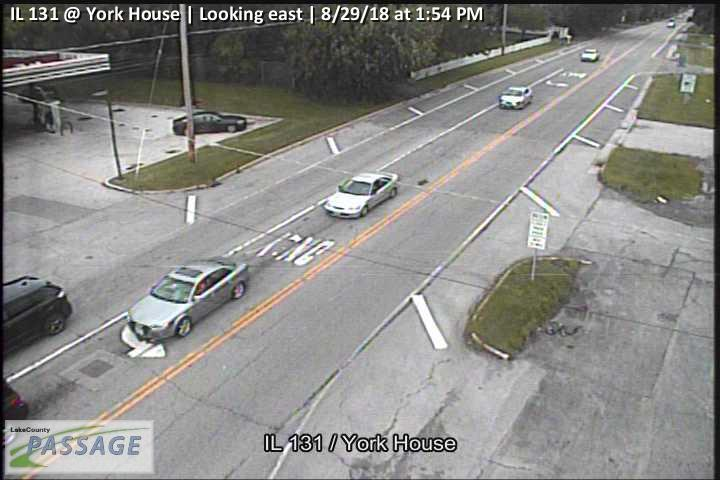SUV: (1, 275, 74, 360), (499, 86, 533, 109)
Sedan: (125, 257, 249, 342), (322, 170, 399, 220), (172, 110, 247, 136), (581, 48, 600, 62)
